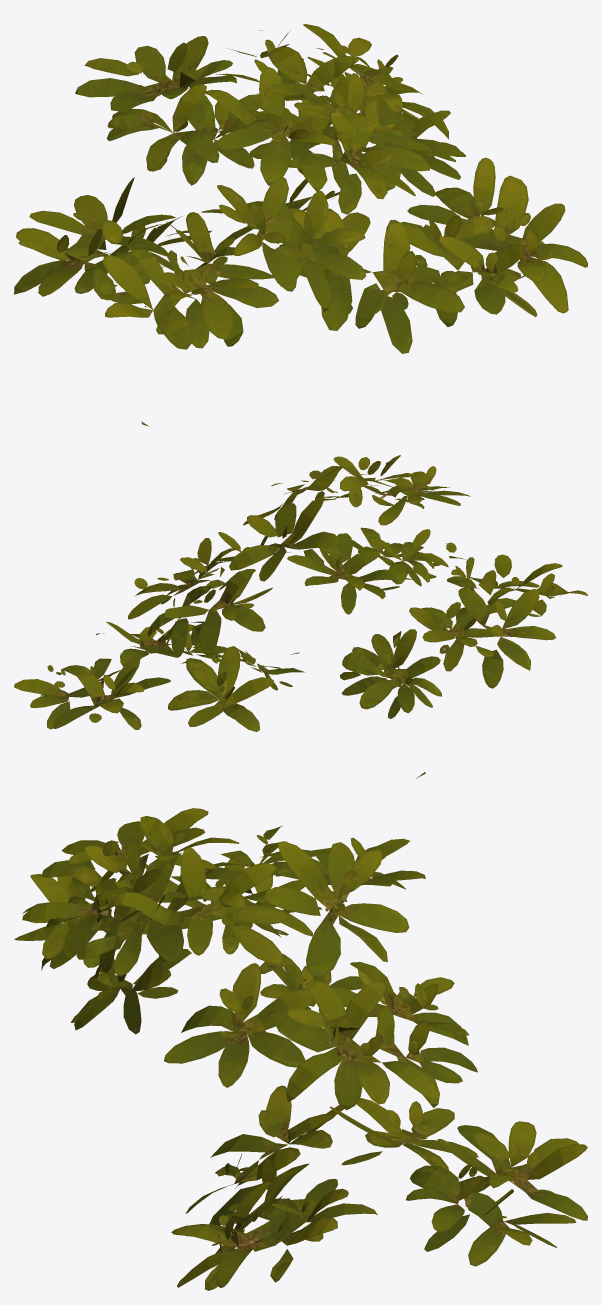
File: leaf_wi.glb
3 views of the same model, one above another, from view 1: azimuth 30°, elevation 25°; view 2: azimuth 150°, elevation 25°; view 3: azimuth 270°, elevation 25° (orthographic). The views are drawn at different scales.
Visible parts, largest first — view 1: geometry_0; view 2: geometry_0; view 3: geometry_0.
Boxes of the visible parts, x1,y1,x2,y2 form: geometry_0: (14, 24, 587, 426); geometry_0: (14, 455, 587, 778); geometry_0: (14, 808, 587, 1290).
Bounding box in the file's own units: 0.364 × 0.2245 × 0.3078.
Materials: 1 (1 with a texture image).
